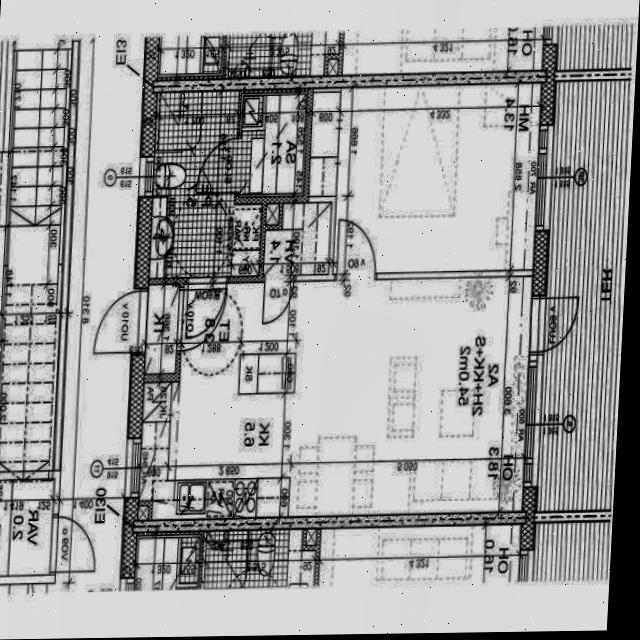room: (306, 84, 544, 274), (149, 88, 266, 283), (238, 91, 305, 197), (264, 200, 329, 277), (0, 480, 52, 575), (143, 283, 179, 376)
